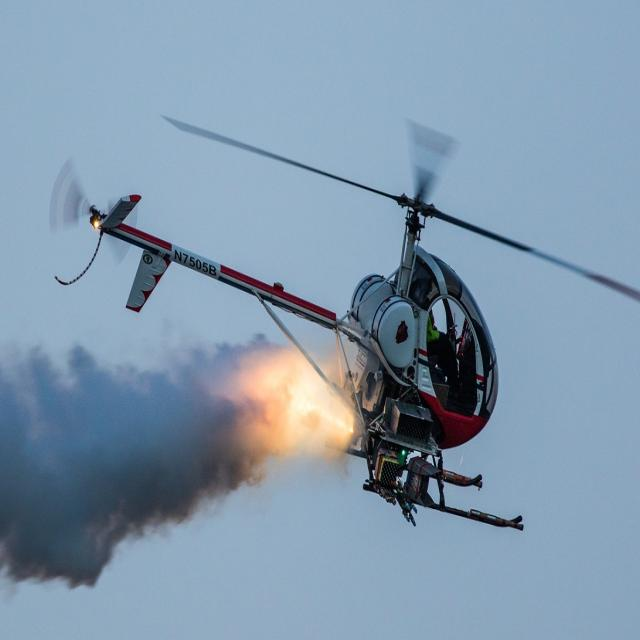helicopter: (36, 95, 534, 545)
